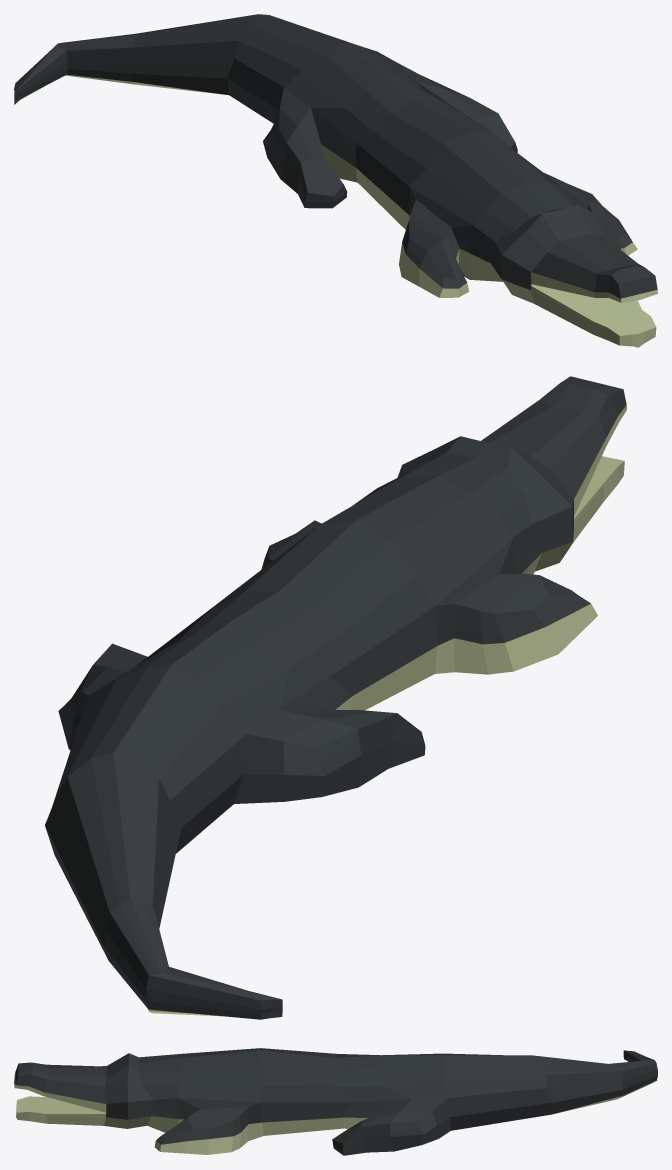
The model's file is Krokodil1.fbx.
3 renders of one model, top to bottom at view 1: azimuth 30°, elevation 25°; view 2: azimuth 150°, elevation 25°; view 3: azimuth 270°, elevation 25°, orthographic. The views are drawn at different scales.
Visible parts, largest first — view 1: Krokodil.002; view 2: Krokodil.002; view 3: Krokodil.002.
Boxes of the visible parts, box(x1,y1,x2,y2) form: Krokodil.002: box(14, 14, 657, 347); Krokodil.002: box(45, 376, 626, 1019); Krokodil.002: box(14, 1048, 657, 1155).
Size of the model in its own units: 2.15 by 0.7339 by 5.4.
